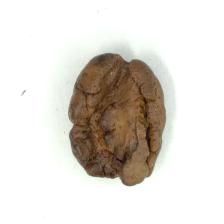NG: (69, 53, 163, 185)
